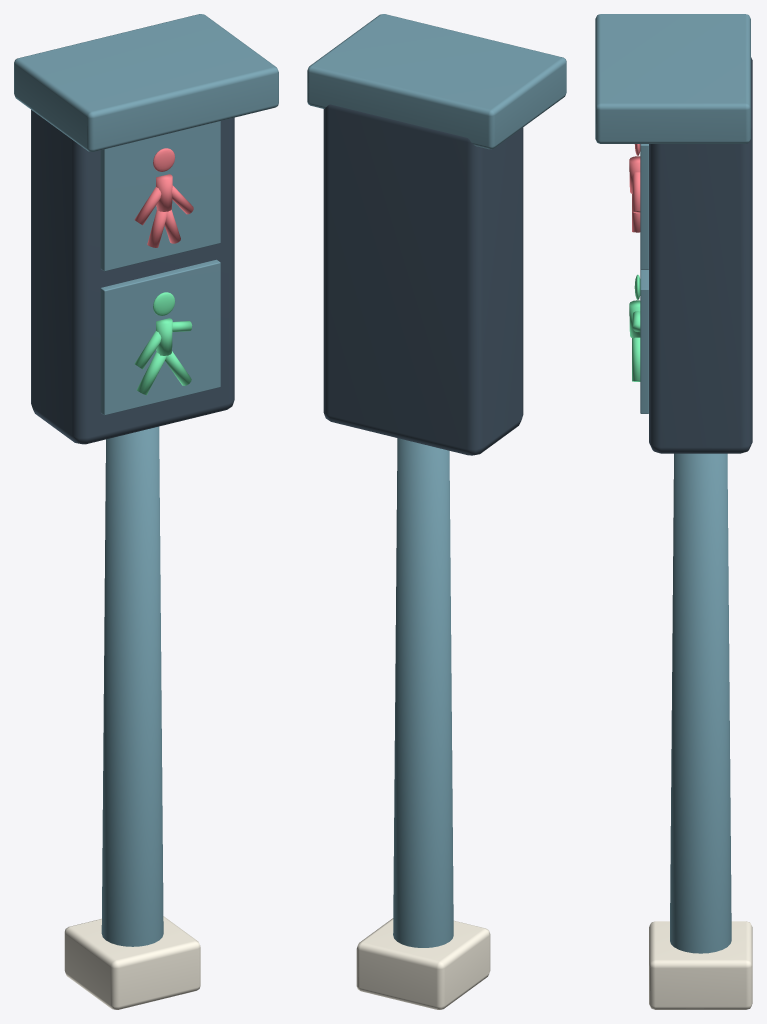
Rendered from SoftPedestrianSignal.fbx.
3 views of the same model, side by side, from view 1: azimuth 30°, elevation 25°; view 2: azimuth 150°, elevation 25°; view 3: azimuth 270°, elevation 25° (orthographic). The views are drawn at different scales.
Parts seen in each view (by area): view 1: Housing, Post, Hood, GreenSignal_Panel, RedSignal_Panel, Base, RedSignal, GreenSignal; view 2: Housing, Post, Hood, Base; view 3: Housing, Post, Hood, Base, GreenSignal_Panel, RedSignal_Panel, GreenSignal, RedSignal.
Boxes of the visible parts, box(x1,y1,x2,y2) form: Housing: box(31, 110, 234, 444); Post: box(101, 426, 163, 946); Hood: box(14, 14, 278, 151); GreenSignal_Panel: box(100, 259, 220, 415); RedSignal_Panel: box(100, 121, 220, 271); Base: box(64, 916, 200, 1009); RedSignal: box(164, 185, 193, 243); GreenSignal: box(165, 321, 192, 385); Housing: box(323, 104, 523, 455); Post: box(393, 438, 453, 947); Hood: box(307, 14, 566, 149); Base: box(356, 918, 490, 1009); Housing: box(649, 57, 752, 453); Post: box(670, 453, 731, 953); Hood: box(595, 14, 750, 143); Base: box(649, 921, 752, 1009); GreenSignal_Panel: box(640, 269, 648, 413); RedSignal_Panel: box(640, 144, 648, 269); GreenSignal: box(632, 311, 640, 381); RedSignal: box(632, 172, 640, 232).
Bounding box in the file's own units: 0.64 × 2.97 × 0.455.
